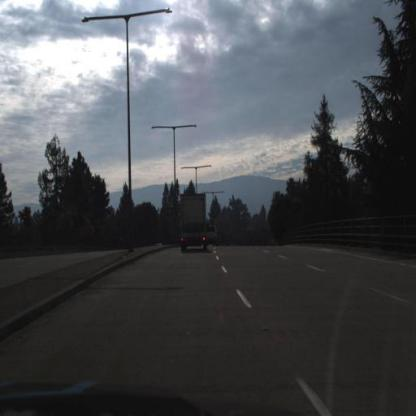car: (206, 225, 218, 245)
truck: (180, 192, 207, 253)
